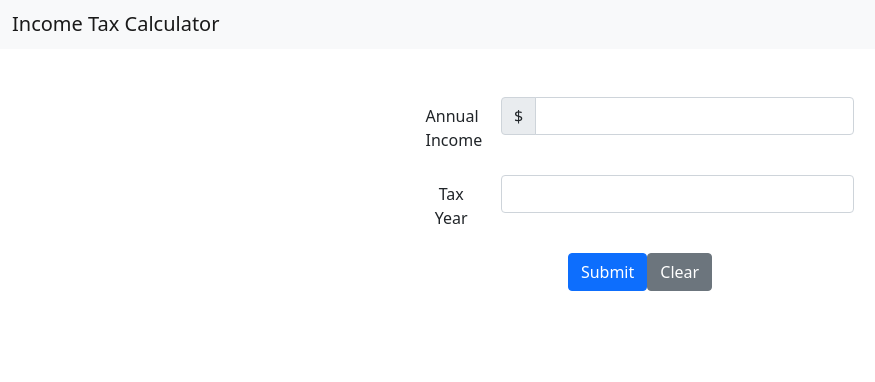
Test case: Testing Dashboard › Invalid input scenarios › Incorrect income field
Type "20abc" into the field with id "income" at (695, 116), box top-left (535, 97), bottom-right (854, 135)
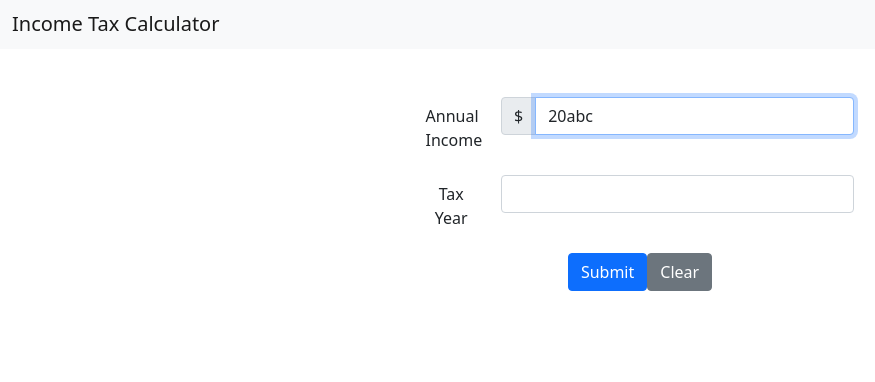
Type "2019" into the field with id "year" at (678, 194), box top-left (501, 175), bottom-right (855, 213)
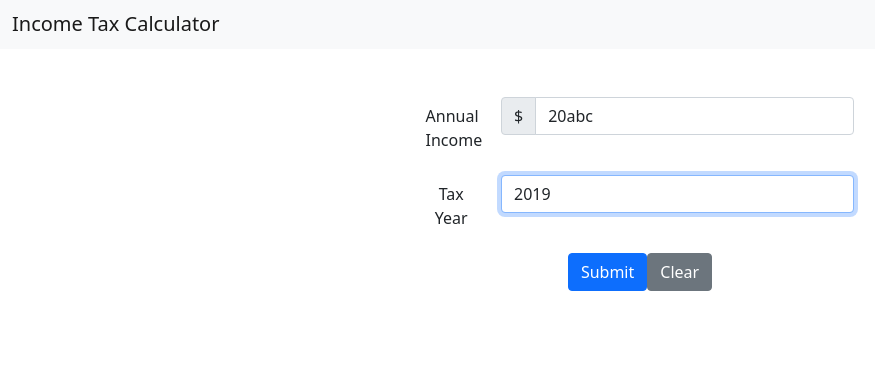
Click the button with id "submit" at (608, 272), box top-left (568, 253), bottom-right (647, 291)
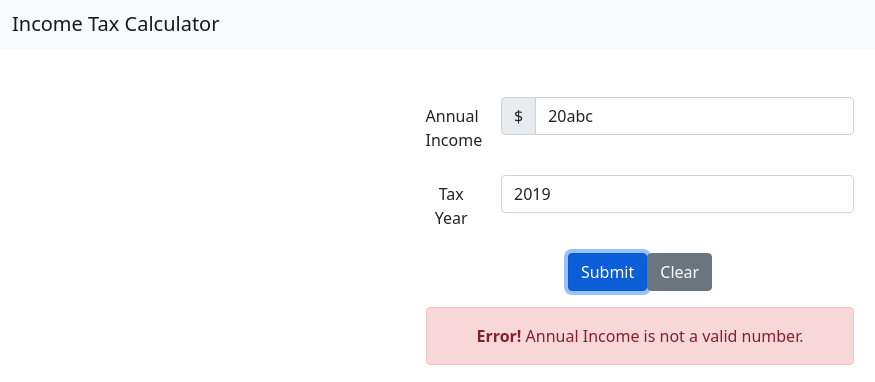
Result: the text "Annual Income is not a valid number" is shown at top-left (526, 325), bottom-right (804, 347)
